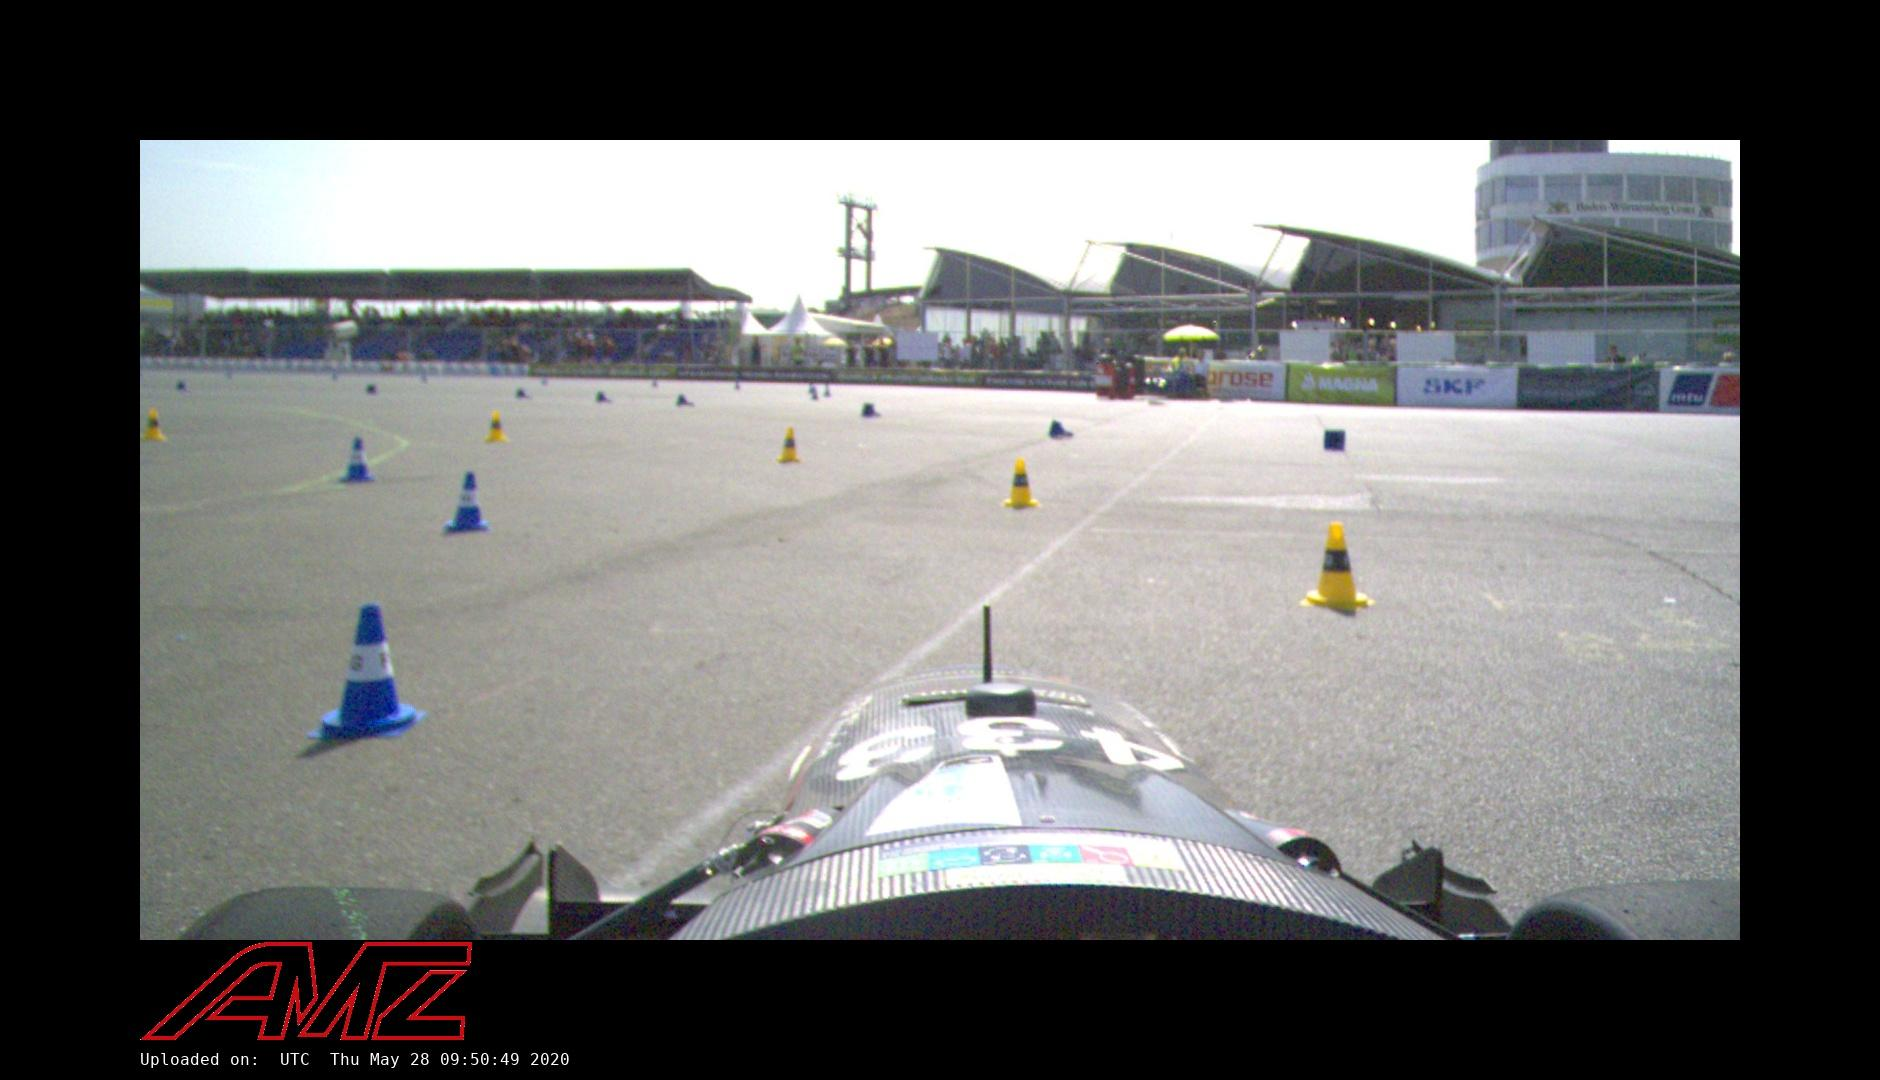blue_cone: (312, 602, 420, 740), (440, 470, 493, 534), (336, 435, 377, 484), (1048, 420, 1076, 441), (674, 391, 696, 407), (861, 403, 882, 419), (594, 391, 615, 406), (515, 388, 532, 399)
yellow_cone: (1302, 521, 1376, 614), (999, 457, 1041, 512), (776, 425, 803, 465), (482, 410, 510, 443), (139, 408, 167, 443)
